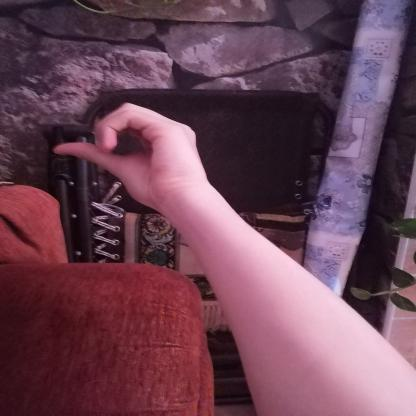WAW: (39, 93, 220, 217)
